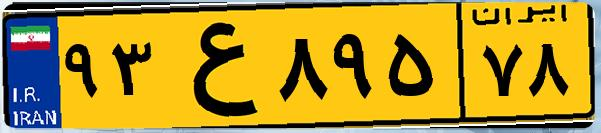3: (110, 28, 158, 98)
5: (385, 28, 445, 110)
7: (475, 38, 525, 113)
8: (270, 28, 330, 110), (525, 38, 570, 115)
9: (330, 28, 385, 110), (57, 26, 110, 100)
ع: (158, 12, 270, 120)
